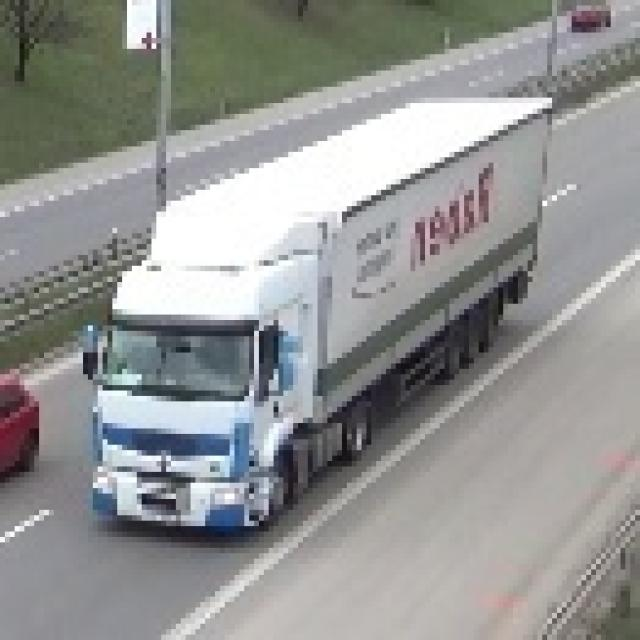TRUCK: (84, 98, 544, 532)
